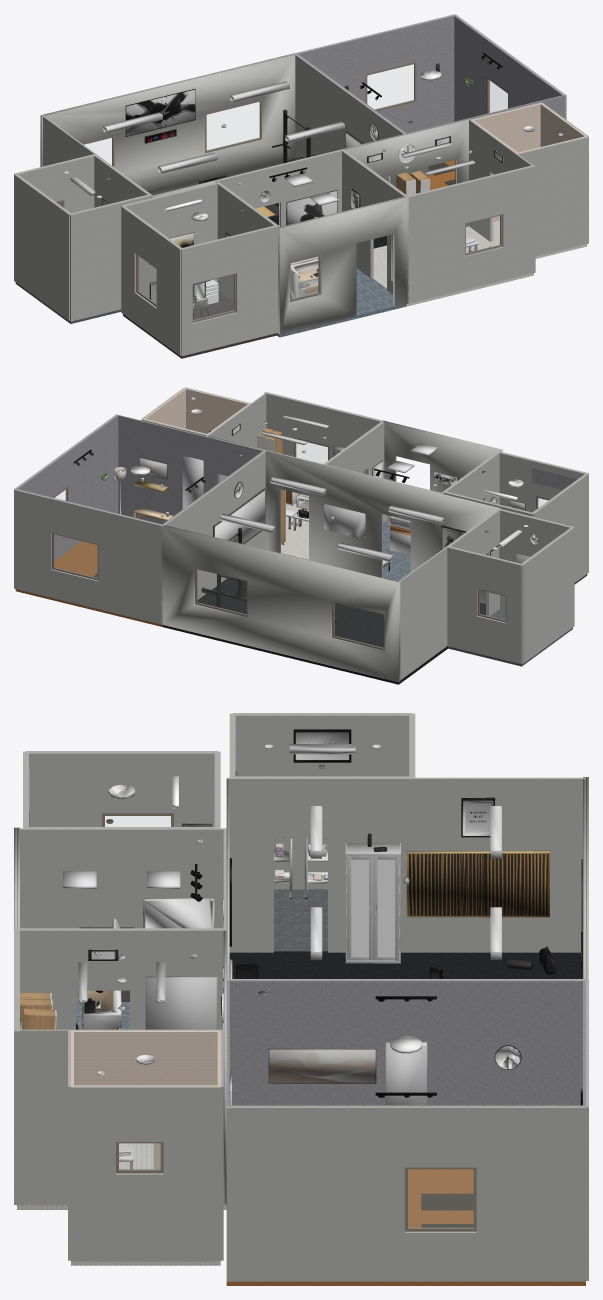
The model's file is scene_named.glb.
3 views of the same model, one above another, from view 1: azimuth 30°, elevation 25°; view 2: azimuth 150°, elevation 25°; view 3: azimuth 270°, elevation 25° (orthographic). The views are drawn at different scales.
Parts seen in each view (by area): view 1: north_wall_workout_area/north_wall_workout_area/geometry_0, south_wall_exterior_locker_room/south_wall_exterior_locker_r, south_wall_exterior_reception/south_wall_exterior_reception/, north_wall_yoga_room/north_wall_yoga_room/geometry_0, south_wall_exterior_office/south_wall_exterior_office/geomet, west_wall_exterior_storage/west_wall_exterior_storage/geomet, south_wall_exterior_bathroom/south_wall_exterior_bathroom/ge, west_wall_exterior_office/west_wall_exterior_office/geometry, south_wall_exterior_storage/south_wall_exterior_storage/geom, east_wall_yoga_room/east_wall_yoga_room/geometry_0, east_wall_workout_area/east_wall_workout_area/geometry_0, north_wall_reception/north_wall_reception/geometry_0 (+31 smaller); view 2: north_wall_exterior_workout_area/north_wall_exterior_workout, north_wall_exterior_yoga_room/north_wall_exterior_yoga_room/, south_wall_workout_area/south_wall_workout_area/geometry_0, south_wall_yoga_room/south_wall_yoga_room/geometry_0, north_wall_exterior_storage/north_wall_exterior_storage/geom, east_wall_yoga_room/east_wall_yoga_room/geometry_0, west_wall_exterior_storage/west_wall_exterior_storage/geomet, west_wall_workout_area/west_wall_workout_area/geometry_0, east_wall_workout_area/east_wall_workout_area/geometry_0, south_wall_reception/south_wall_reception/geometry_0, south_wall_locker_room/south_wall_locker_room/geometry_0, floor_workout_area (+30 smaller); view 3: east_wall_exterior_yoga_room/east_wall_exterior_yoga_room/ge, west_wall_workout_area/west_wall_workout_area/geometry_0, west_wall_yoga_room/west_wall_yoga_room/geometry_0, east_wall_exterior_bathroom/east_wall_exterior_bathroom/geom, west_wall_reception/west_wall_reception/geometry_0, west_wall_office/west_wall_office/geometry_0, west_wall_locker_room/west_wall_locker_room/geometry_0, west_wall_storage/west_wall_storage/geometry_0, wall_panel_artwork_0, east_wall_locker_room/east_wall_locker_room/geometry_0, west_wall_bathroom/west_wall_bathroom/geometry_0, floor_workout_area (+24 smaller).
Boxes of the visible parts, x1,y1,x2,y2 form: north_wall_workout_area/north_wall_workout_area/geometry_0: (41, 54, 295, 195); south_wall_exterior_locker_room/south_wall_exterior_locker_r: (407, 165, 535, 303); south_wall_exterior_reception/south_wall_exterior_reception/: (279, 197, 408, 334); north_wall_yoga_room/north_wall_yoga_room/geometry_0: (298, 15, 454, 132); south_wall_exterior_office/south_wall_exterior_office/geomet: (181, 226, 277, 356); west_wall_exterior_storage/west_wall_exterior_storage/geomet: (14, 174, 69, 320); south_wall_exterior_bathroom/south_wall_exterior_bathroom/ge: (517, 136, 588, 256); west_wall_exterior_office/west_wall_exterior_office/geometry: (121, 206, 180, 355); south_wall_exterior_storage/south_wall_exterior_storage/geom: (70, 195, 150, 321); east_wall_yoga_room/east_wall_yoga_room/geometry_0: (453, 15, 564, 121); east_wall_workout_area/east_wall_workout_area/geometry_0: (295, 54, 405, 158); north_wall_reception/north_wall_reception/geometry_0: (217, 150, 341, 226); north_wall_exterior_workout_area/north_wall_exterior_workout: (161, 525, 399, 682); north_wall_exterior_yoga_room/north_wall_exterior_yoga_room/: (14, 489, 163, 624); south_wall_workout_area/south_wall_workout_area/geometry_0: (265, 451, 500, 603); south_wall_yoga_room/south_wall_yoga_room/geometry_0: (118, 415, 262, 524); north_wall_exterior_storage/north_wall_exterior_storage/geom: (447, 547, 522, 664); east_wall_yoga_room/east_wall_yoga_room/geometry_0: (16, 414, 118, 560); west_wall_exterior_storage/west_wall_exterior_storage/geomet: (522, 527, 574, 663); west_wall_workout_area/west_wall_workout_area/geometry_0: (397, 508, 500, 680); east_wall_workout_area/east_wall_workout_area/geometry_0: (163, 450, 265, 599); south_wall_reception/south_wall_reception/geometry_0: (382, 421, 502, 522); south_wall_locker_room/south_wall_locker_room/geometry_0: (264, 392, 382, 501); floor_workout_area: (163, 553, 485, 684); east_wall_exterior_yoga_room/east_wall_exterior_yoga_room/ge: (226, 1106, 585, 1281); west_wall_workout_area/west_wall_workout_area/geometry_0: (226, 777, 585, 952); west_wall_yoga_room/west_wall_yoga_room/geometry_0: (226, 980, 585, 1105); east_wall_exterior_bathroom/east_wall_exterior_bathroom/geom: (71, 1086, 220, 1261); west_wall_reception/west_wall_reception/geometry_0: (20, 828, 226, 1003); west_wall_office/west_wall_office/geometry_0: (29, 752, 214, 927); west_wall_locker_room/west_wall_locker_room/geometry_0: (20, 929, 226, 1029); west_wall_storage/west_wall_storage/geometry_0: (233, 714, 411, 889); wall_panel_artwork_0: (406, 850, 549, 917); east_wall_locker_room/east_wall_locker_room/geometry_0: (20, 1029, 226, 1204); west_wall_bathroom/west_wall_bathroom/geometry_0: (74, 1030, 217, 1169); floor_workout_area: (229, 951, 582, 978).
Bounding box in the file's own units: 15.6 × 3.3 × 9.6.
171 materials, 148 textured.
